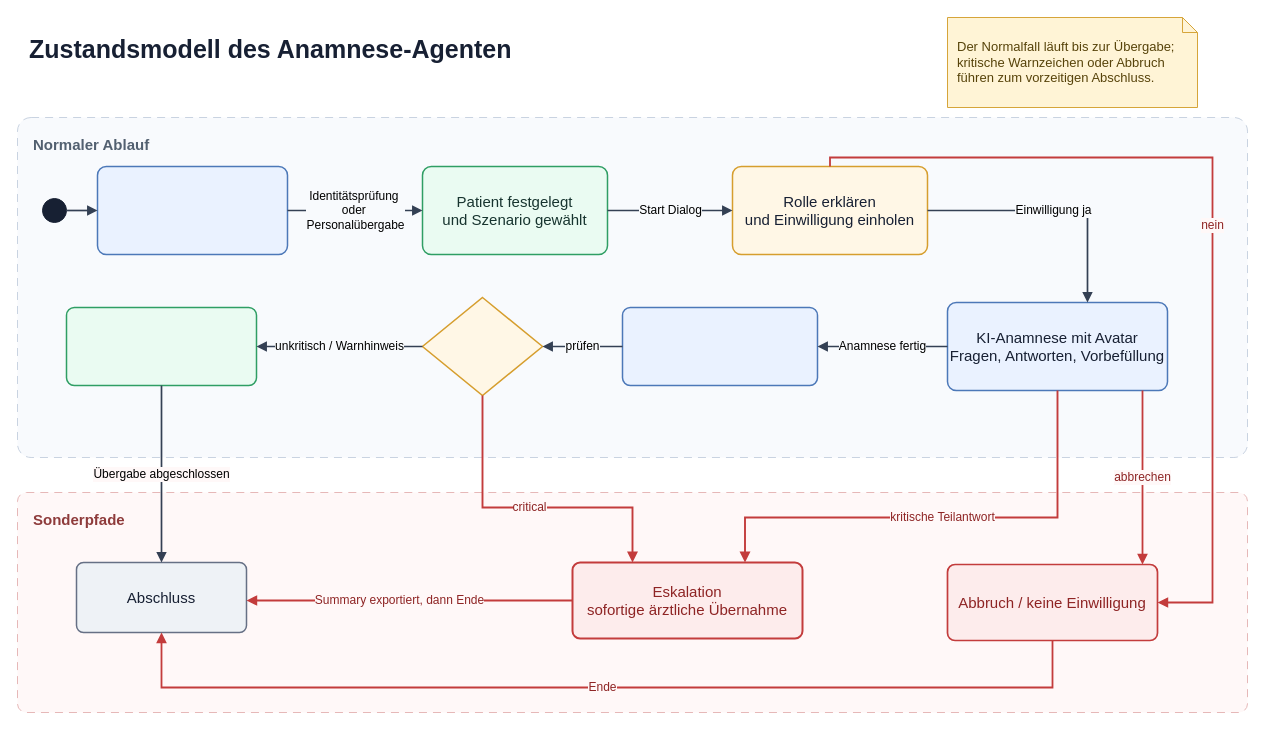
Image size: 1265x730. Some labels were removed from this diagram. The shapes that lost their labels are listed below. From the top down, each one's centre as x and y in pixels, then its label:
At pixel 192 210: "Einstieg Patienten- oder Personalmodus".
At pixel 161 346: "Zusammenfassung JSON / PDF / Übergabe".
At pixel 482 346: "Red-Flag-Prüfung".
At pixel 719 346: "Vitalwerte erfassen manuell oder simuliert".
